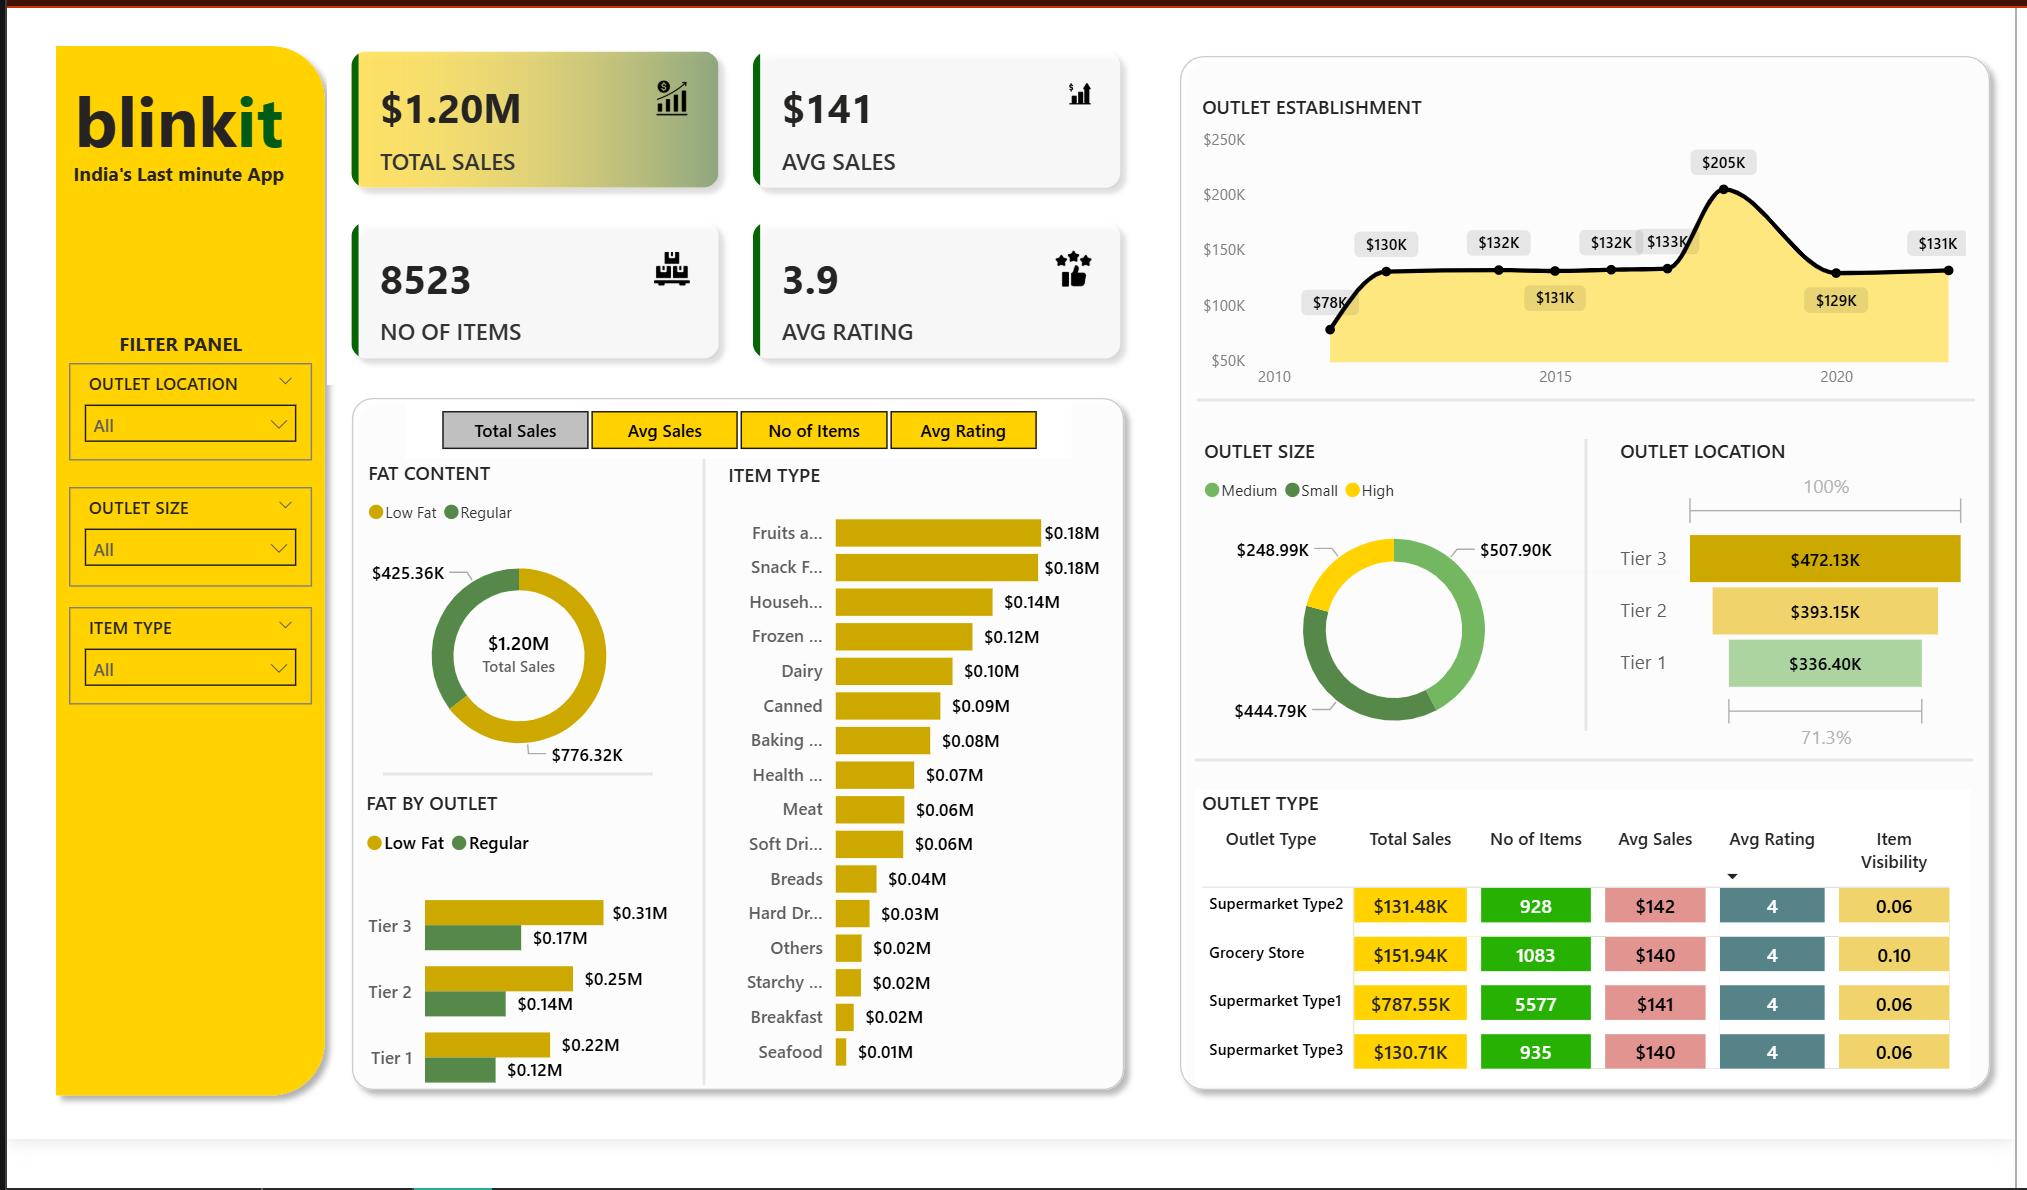

The page's visual inventory and layout, read from the dashboard file:
{"tool":"powerbi","page":{"name":"Page 1","canvas":[1400,800],"ordinal":0},"visuals":[{"type":"shape","box":[25.7,29.5,205.5,749.9],"z":0},{"type":"textbox","box":[36.3,51.6,167.3,75.3],"z":1000},{"type":"textbox","box":[36.3,112.9,167.3,27.9],"z":2000},{"type":"cardVisual","fields":{"Data":["BlinkIT Grocery Data.Total Sales","BlinkIT Grocery Data.Avg Sales","BlinkIT Grocery Data.No of Items","BlinkIT Grocery Data.Avg Rating"]},"box":[223.1,25.1,570.3,249.6],"z":3000},{"type":"shape","box":[231.5,274.7,556.4,500.6],"z":4000},{"type":"donutChart","title":" FAT CONTENT","fields":{"Y":["BlinkIT Grocery Data.Total Sales"],"Category":["BlinkIT Grocery Data.Item Fat Content"]},"box":[246.8,326.3,220.3,230.1],"z":5000},{"type":"slicer","fields":{"Values":["Metrics.Metrics"]},"box":[277.5,285.9,464.3,40.4],"z":6000},{"type":"cardVisual","fields":{"Data":["BlinkIT Grocery Data.Total Sales"]},"box":[294.2,425.3,125.5,72.5],"z":7000},{"type":"clusteredBarChart","title":"FAT BY OUTLET","fields":{"Y":["BlinkIT Grocery Data.Total Sales"],"Category":["BlinkIT Grocery Data.Outlet Location Type"],"Series":["BlinkIT Grocery Data.Item Fat Content"]},"box":[245.4,556.4,220.3,230.1],"z":8000},{"type":"shape","box":[978.9,379.3,188.2,51.6],"z":9000},{"type":"shape","box":[461.6,326.3,48.8,436.5],"z":10000},{"type":"barChart","title":"ITEM TYPE","fields":{"Y":["BlinkIT Grocery Data.Total Sales"],"Category":["BlinkIT Grocery Data.Item Type"]},"box":[497.8,327.7,269.1,436.5],"z":11000},{"type":"shape","box":[808.8,36.3,582.9,739],"z":12000},{"type":"lineChart","title":"OUTLET ESTABLISHMENT","fields":{"Category":["BlinkIT Grocery Data.Outlet Establishment Year"],"Y":["BlinkIT Grocery Data.Total Sales"]},"box":[828.3,71.1,542.4,214.7],"z":13000},{"type":"shape","box":[262.2,520.1,188.2,51.6],"z":14000},{"type":"shape","box":[829.7,259.4,542.4,51.6],"z":15000},{"type":"donutChart","title":"OUTLET SIZE","fields":{"Y":["BlinkIT Grocery Data.Total Sales"],"Category":["BlinkIT Grocery Data.Outlet Size"]},"box":[829.7,311,274.7,224.5],"z":16000},{"type":"shape","box":[1076.5,312.4,48.8,203.6],"z":17000},{"type":"funnel","title":"OUTLET LOCATION","fields":{"Y":["BlinkIT Grocery Data.Total Sales"],"Category":["BlinkIT Grocery Data.Outlet Location Type"]},"box":[1119.7,311,252.4,224.5],"z":18000},{"type":"shape","box":[828.3,515.9,542.4,40.4],"z":19000},{"type":"pivotTable","title":"OUTLET TYPE","fields":{"Rows":["BlinkIT Grocery Data.Outlet Type"],"Values":["BlinkIT Grocery Data.Total Sales","BlinkIT Grocery Data.No of Items","BlinkIT Grocery Data.Avg Sales","BlinkIT Grocery Data.Avg Rating","Avg(BlinkIT Grocery Data.Item Visibility)"]},"box":[828.3,556.4,541,206.4],"z":20000},{"type":"slicer","fields":{"Values":["BlinkIT Grocery Data.Outlet Location Type"]},"box":[43.7,259.4,169.5,68.1],"z":21000},{"type":"slicer","fields":{"Values":["BlinkIT Grocery Data.Outlet Size"]},"box":[43.7,345.4,169.5,69.3],"z":22000},{"type":"slicer","fields":{"Values":["BlinkIT Grocery Data.Item Type"]},"box":[43.7,430.2,169.5,68.1],"z":23000},{"type":"textbox","box":[37.6,231.5,167.3,27.9],"z":24000}]}

Visuals, with their boxes in screenshot pixels (x1, y1, x2, y2), scaled from the page's 1400x800 canvas onto the 2027x1190 screenshot:
shape: 37/44/335/1159
textbox: 53/77/295/189
textbox: 53/168/295/209
cardVisual - BlinkIT Grocery Data.Total Sales x BlinkIT Grocery Data.Avg Sales: 323/37/1149/409
shape: 335/409/1141/1153
" FAT CONTENT" donutChart: 357/485/676/828
slicer - Metrics.Metrics: 402/425/1074/485
cardVisual - BlinkIT Grocery Data.Total Sales: 426/633/608/740
"FAT BY OUTLET" clusteredBarChart: 355/828/674/1170
shape: 1417/564/1690/641
shape: 668/485/739/1135
"ITEM TYPE" barChart: 721/487/1110/1137
shape: 1171/54/2015/1153
"OUTLET ESTABLISHMENT" lineChart: 1199/106/1985/425
shape: 380/774/652/850
shape: 1201/386/1987/463
"OUTLET SIZE" donutChart: 1201/463/1599/797
shape: 1559/465/1629/768
"OUTLET LOCATION" funnel: 1621/463/1987/797
shape: 1199/767/1985/827
"OUTLET TYPE" pivotTable: 1199/828/1983/1135
slicer - BlinkIT Grocery Data.Outlet Location Type: 63/386/309/487
slicer - BlinkIT Grocery Data.Outlet Size: 63/514/309/617
slicer - BlinkIT Grocery Data.Item Type: 63/640/309/741
textbox: 54/344/297/386
